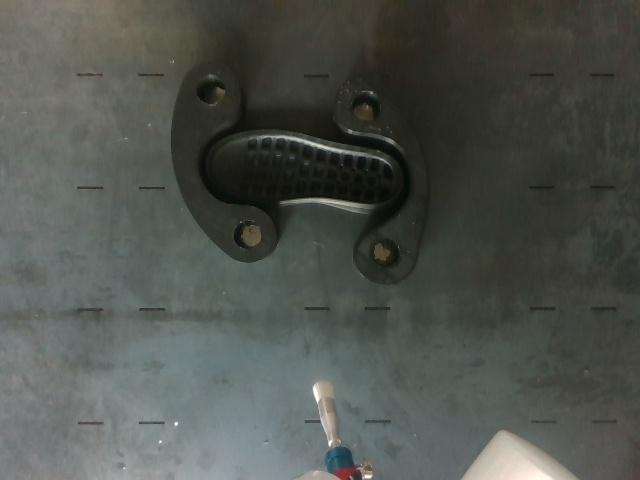shoes: (210, 134, 400, 204)
